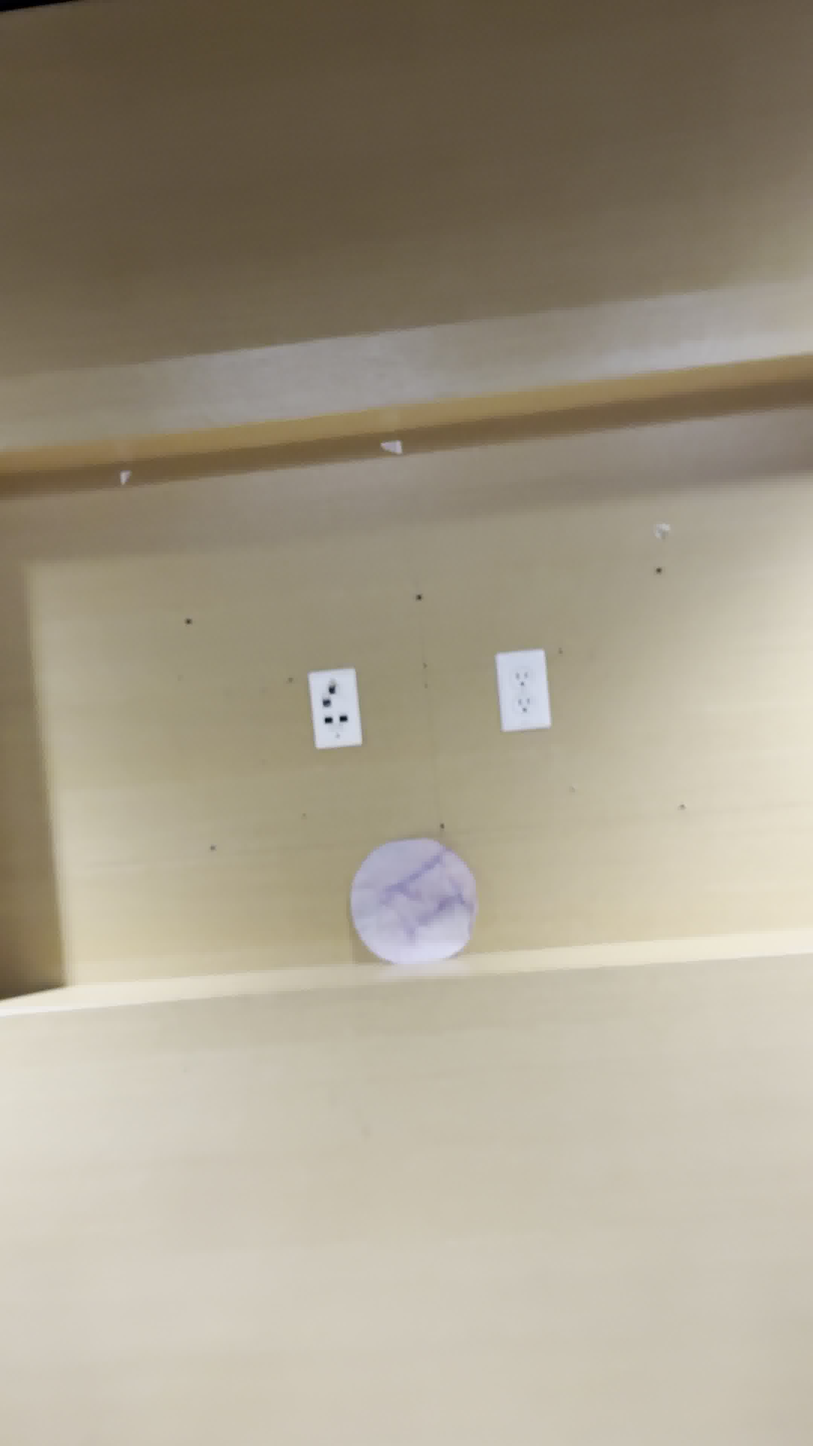Target: (347, 840, 475, 962)
